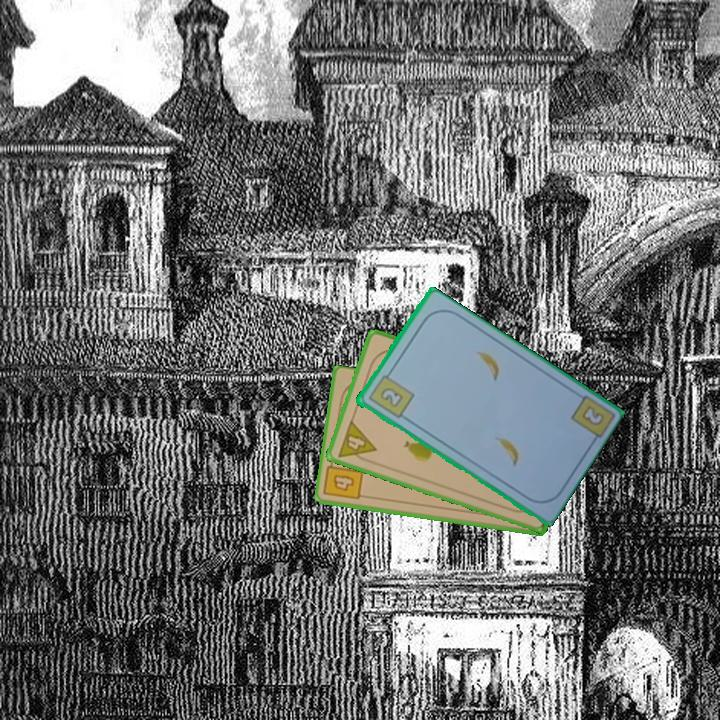2b: (364, 367, 416, 421), (578, 402, 607, 429)
4b: (321, 456, 367, 503)
4p: (334, 416, 379, 467)
